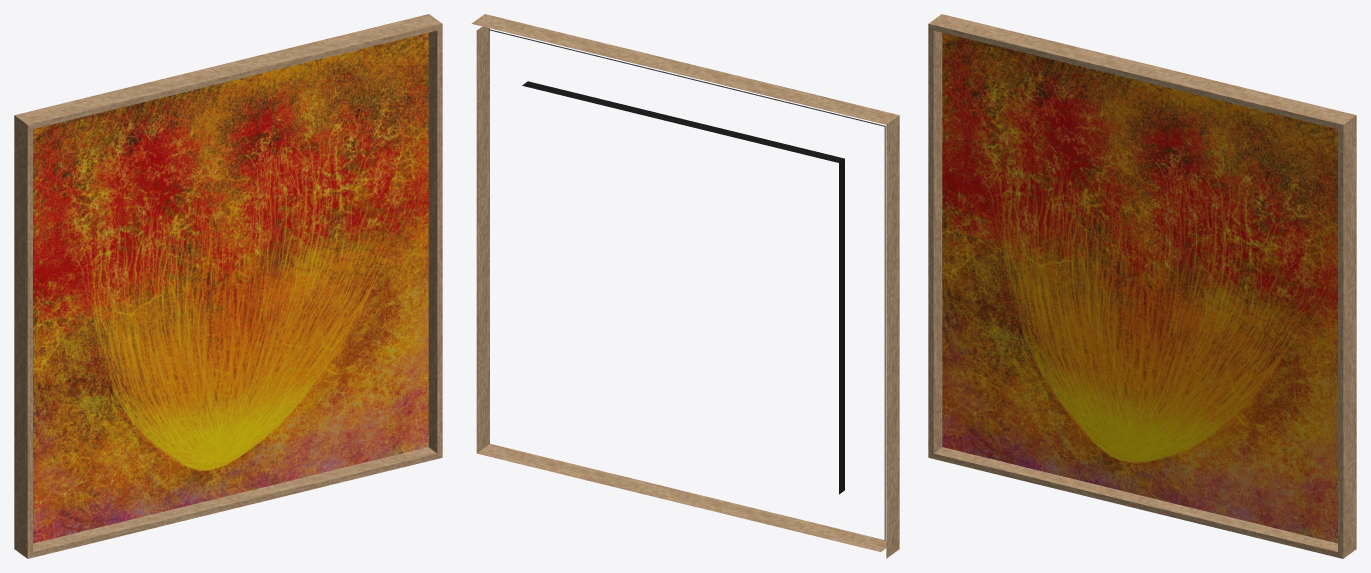
Rendered from va308_moyen_caisse-chene.glb.
3 views of the same model, side by side, from view 1: azimuth 30°, elevation 25°; view 2: azimuth 150°, elevation 25°; view 3: azimuth 330°, elevation 25° (orthographic).
Visible parts, largest first — view 1: va308_moyen_caisse-chene; view 2: va308_moyen_caisse-chene; view 3: va308_moyen_caisse-chene.
Part boxes in pixels (x1=…): va308_moyen_caisse-chene: x1=14, y1=14, x2=442, y2=558; va308_moyen_caisse-chene: x1=471, y1=14, x2=899, y2=558; va308_moyen_caisse-chene: x1=928, y1=14, x2=1356, y2=558.
Size of the model in its own units: 0.628 by 0.628 by 0.035.
Materials: 4 (2 with a texture image).
